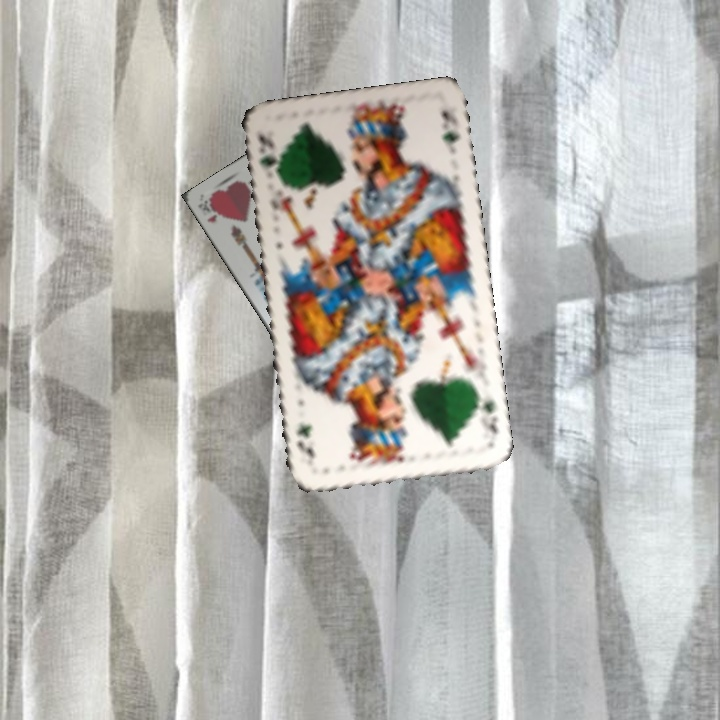GK: (472, 389, 501, 444), (254, 130, 282, 184)
HK: (194, 196, 222, 226)
